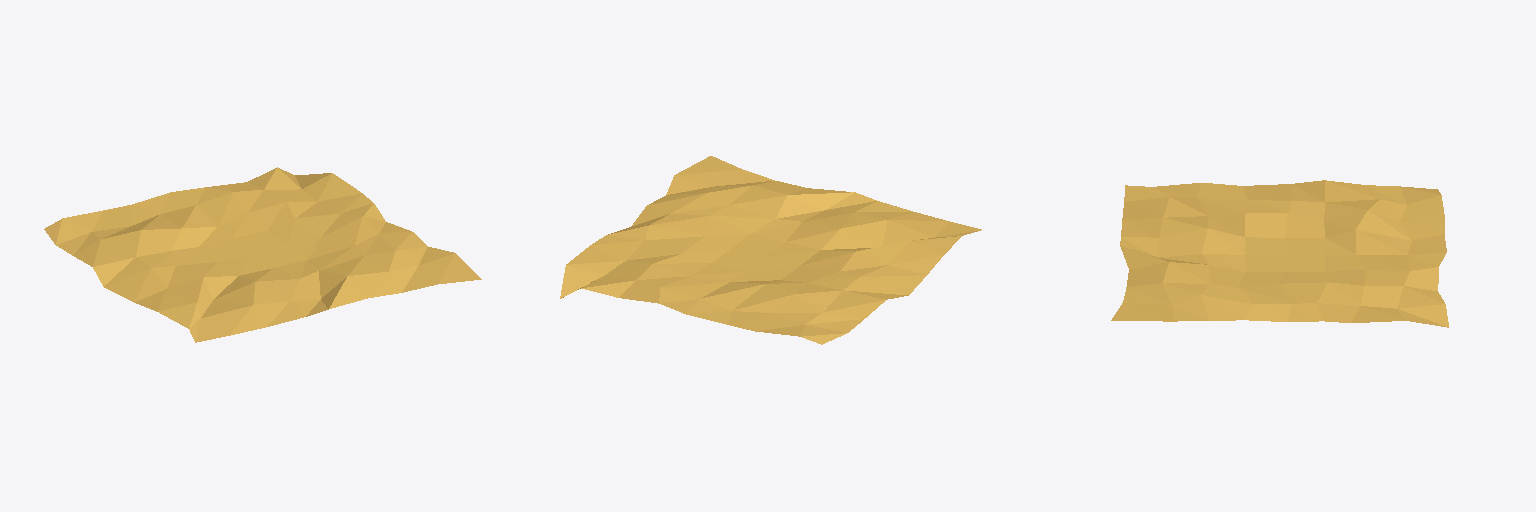
The model's file is strand.obj.
The picture shows the model from 3 angles: view 1: azimuth 30°, elevation 25°; view 2: azimuth 150°, elevation 25°; view 3: azimuth 270°, elevation 25°; orthographic projection.
Parts seen in each view (by area): view 1: Plane_Plane.001; view 2: Plane_Plane.001; view 3: Plane_Plane.001.
Boxes of the visible parts, <box> form: Plane_Plane.001: <box>44,167,481,342</box>; Plane_Plane.001: <box>560,156,981,344</box>; Plane_Plane.001: <box>1111,180,1448,327</box>.
Bounding box in the file's own units: 62.07 × 4.67 × 62.05.